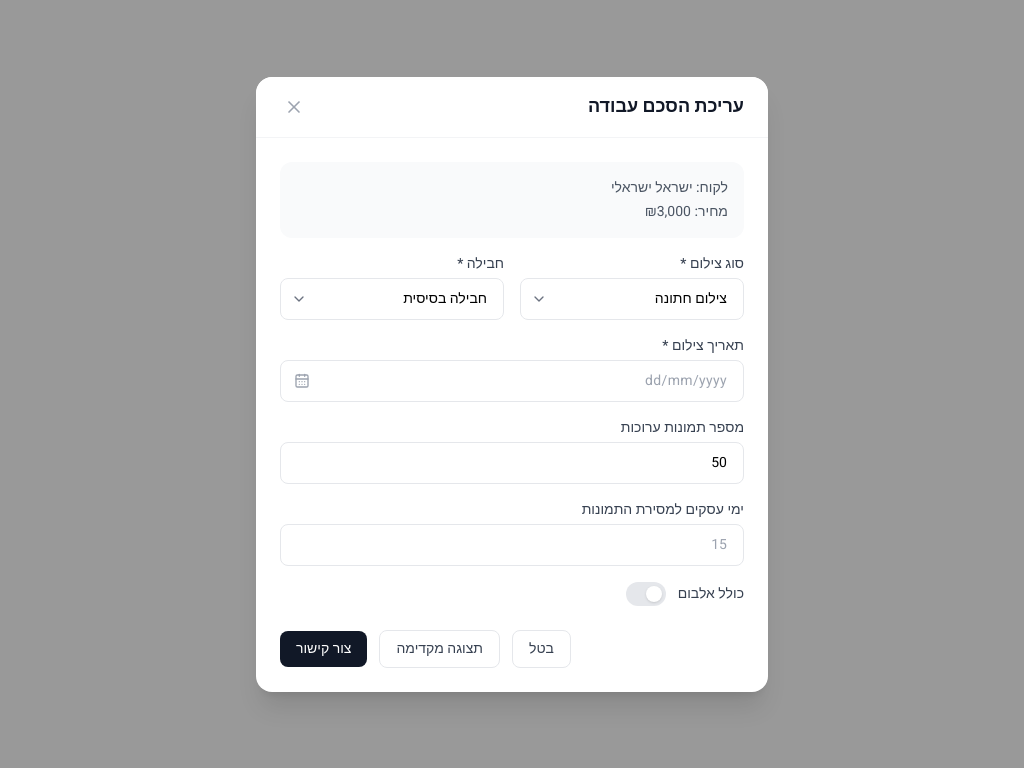
AgreementEditorModal › shows shoot date error and blocks generation when shoot date is empty
Click the button "צור קישור": (324, 648) [280,630,368,666]
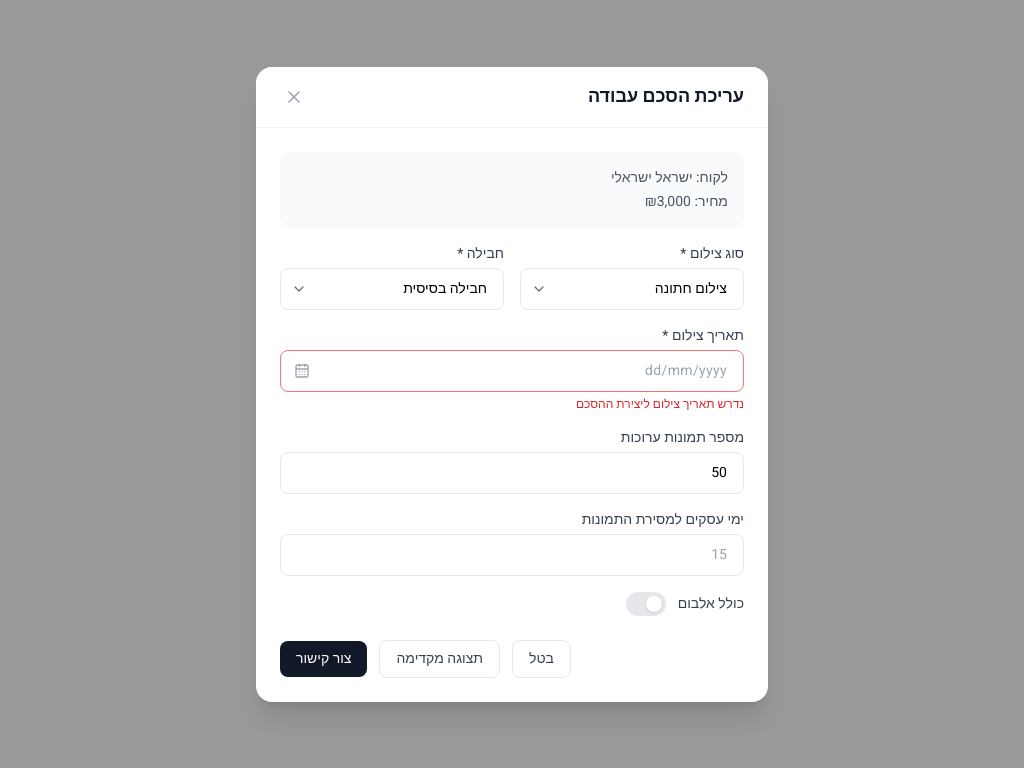
Expected: the text "נדרש תאריך צילום ליצירת ההסכם" is shown, [576,394,744,412]
